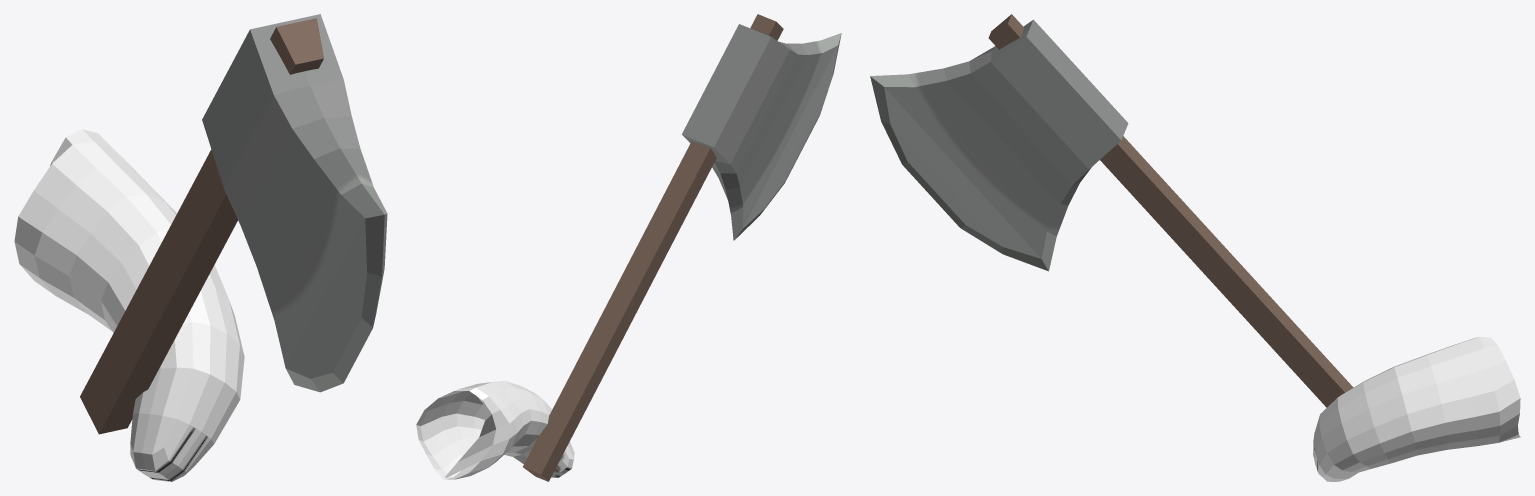
The model's file is BrazoIzquierdoHacha.obj.
3 renders of one model, left to right at view 1: azimuth 30°, elevation 25°; view 2: azimuth 150°, elevation 25°; view 3: azimuth 270°, elevation 25°, orthographic. The views are drawn at different scales.
Visible parts, largest first — view 1: axe:pCube4; view 2: axe:pCube4; view 3: axe:pCube4.
Part boxes in pixels (x1,y1,x2,y2): axe:pCube4: [14, 14, 387, 481]; axe:pCube4: [416, 14, 841, 481]; axe:pCube4: [870, 14, 1520, 481].
Size of the model in its own units: 1.91 by 4.49 by 6.27.
2 materials, 2 textured.
